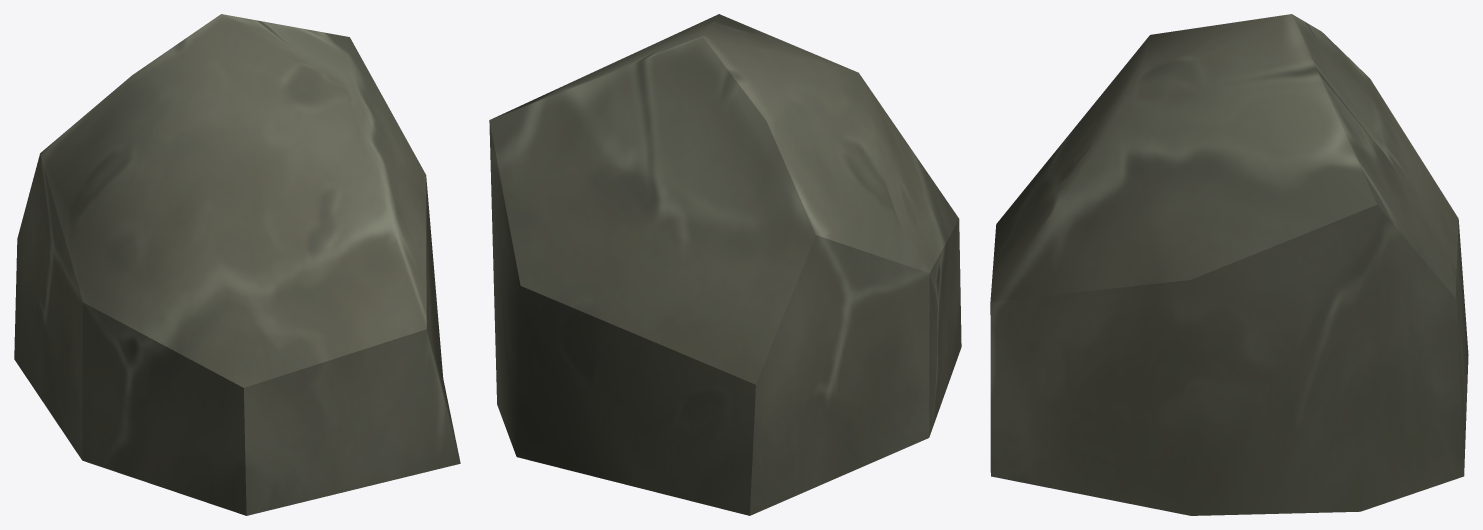
The model's file is Rock Flat #1.fbx.
3 views of the same model, side by side, from view 1: azimuth 30°, elevation 25°; view 2: azimuth 150°, elevation 25°; view 3: azimuth 270°, elevation 25° (orthographic). The views are drawn at different scales.
Parts seen in each view (by area): view 1: Rock Flat #1; view 2: Rock Flat #1; view 3: Rock Flat #1.
Boxes of the visible parts, x1,y1,x2,y2 form: Rock Flat #1: [14, 14, 460, 515]; Rock Flat #1: [489, 14, 961, 515]; Rock Flat #1: [990, 14, 1468, 515].
Size of the model in its own units: 112 by 112 by 119.
Materials: 1 (1 with a texture image).
